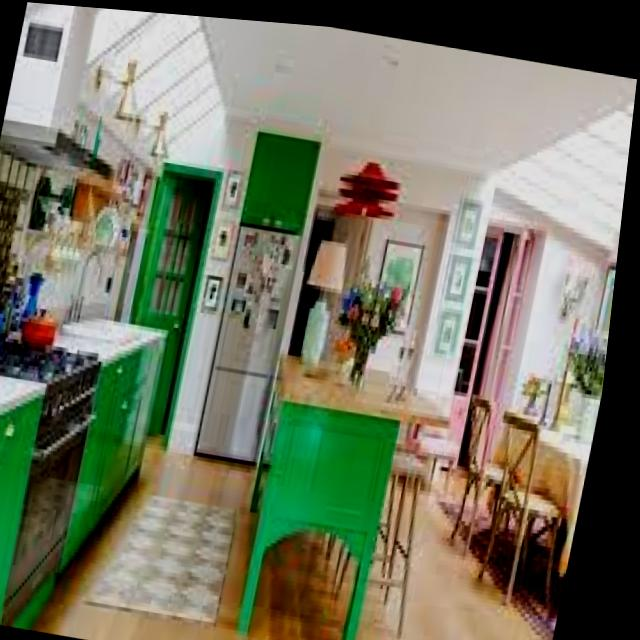noobs: (251, 350, 454, 640), (47, 446, 328, 640), (411, 487, 561, 640)
obs: (0, 312, 175, 627), (464, 387, 603, 625)
